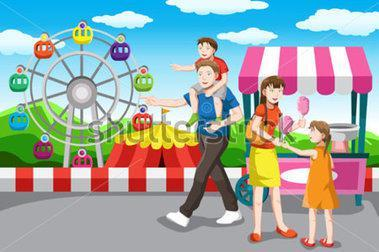person: (165, 58, 242, 226), (240, 72, 297, 240), (175, 32, 231, 130), (298, 116, 339, 247)
